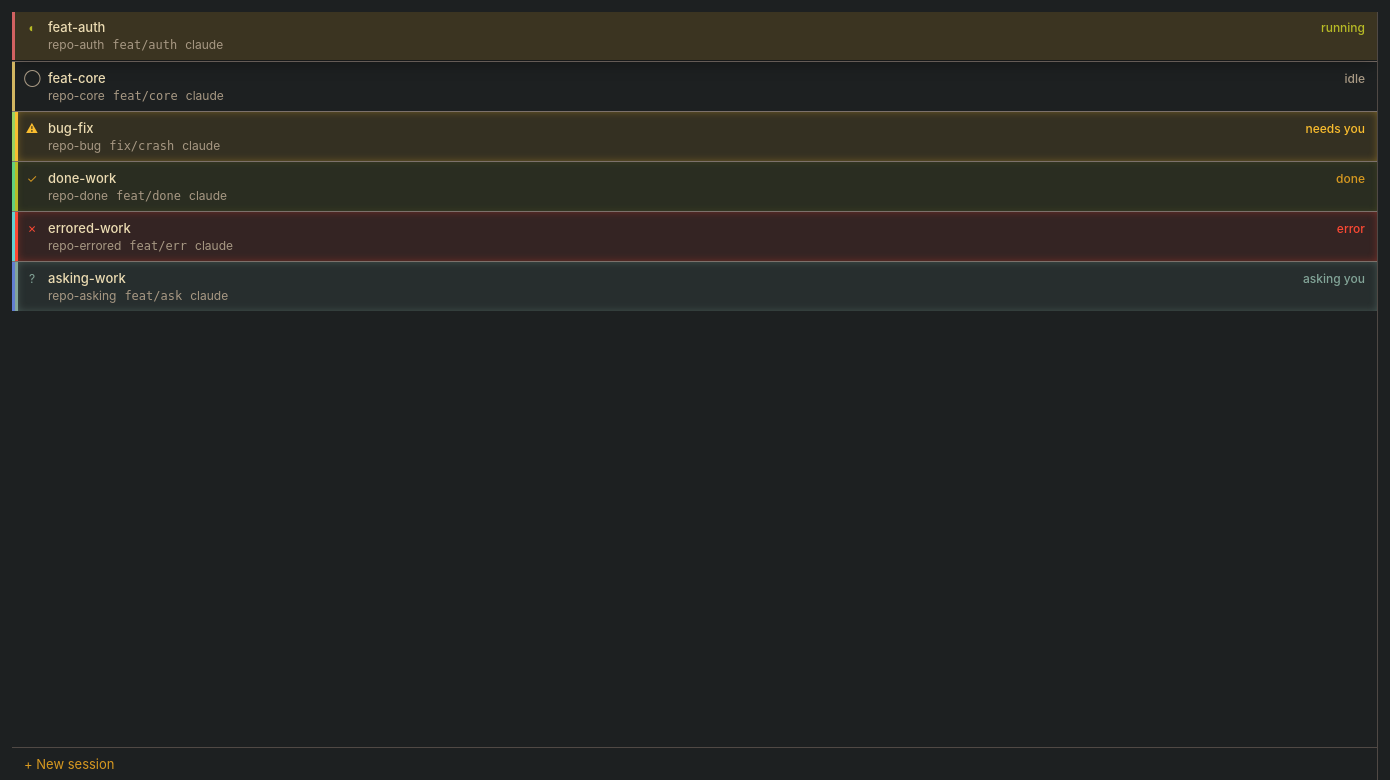
Scenario: double-click on the title enters an input seeded with the current title
The width and height of the screenshot is (1390, 780).
Double-click the text "feat-auth" at (77, 27), box [48,19,105,35]
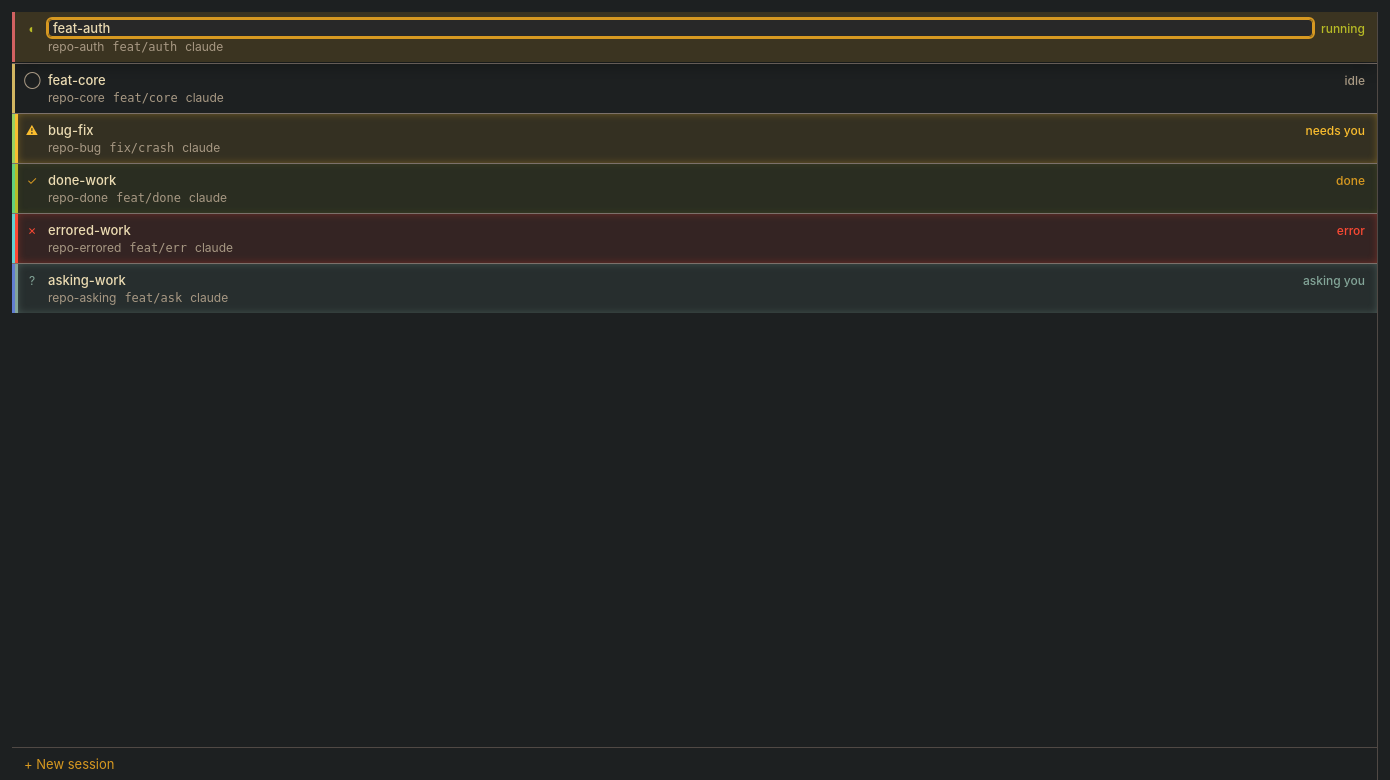
Expected: the field named "rename session" holds "feat-auth", [48,19,1313,37]
